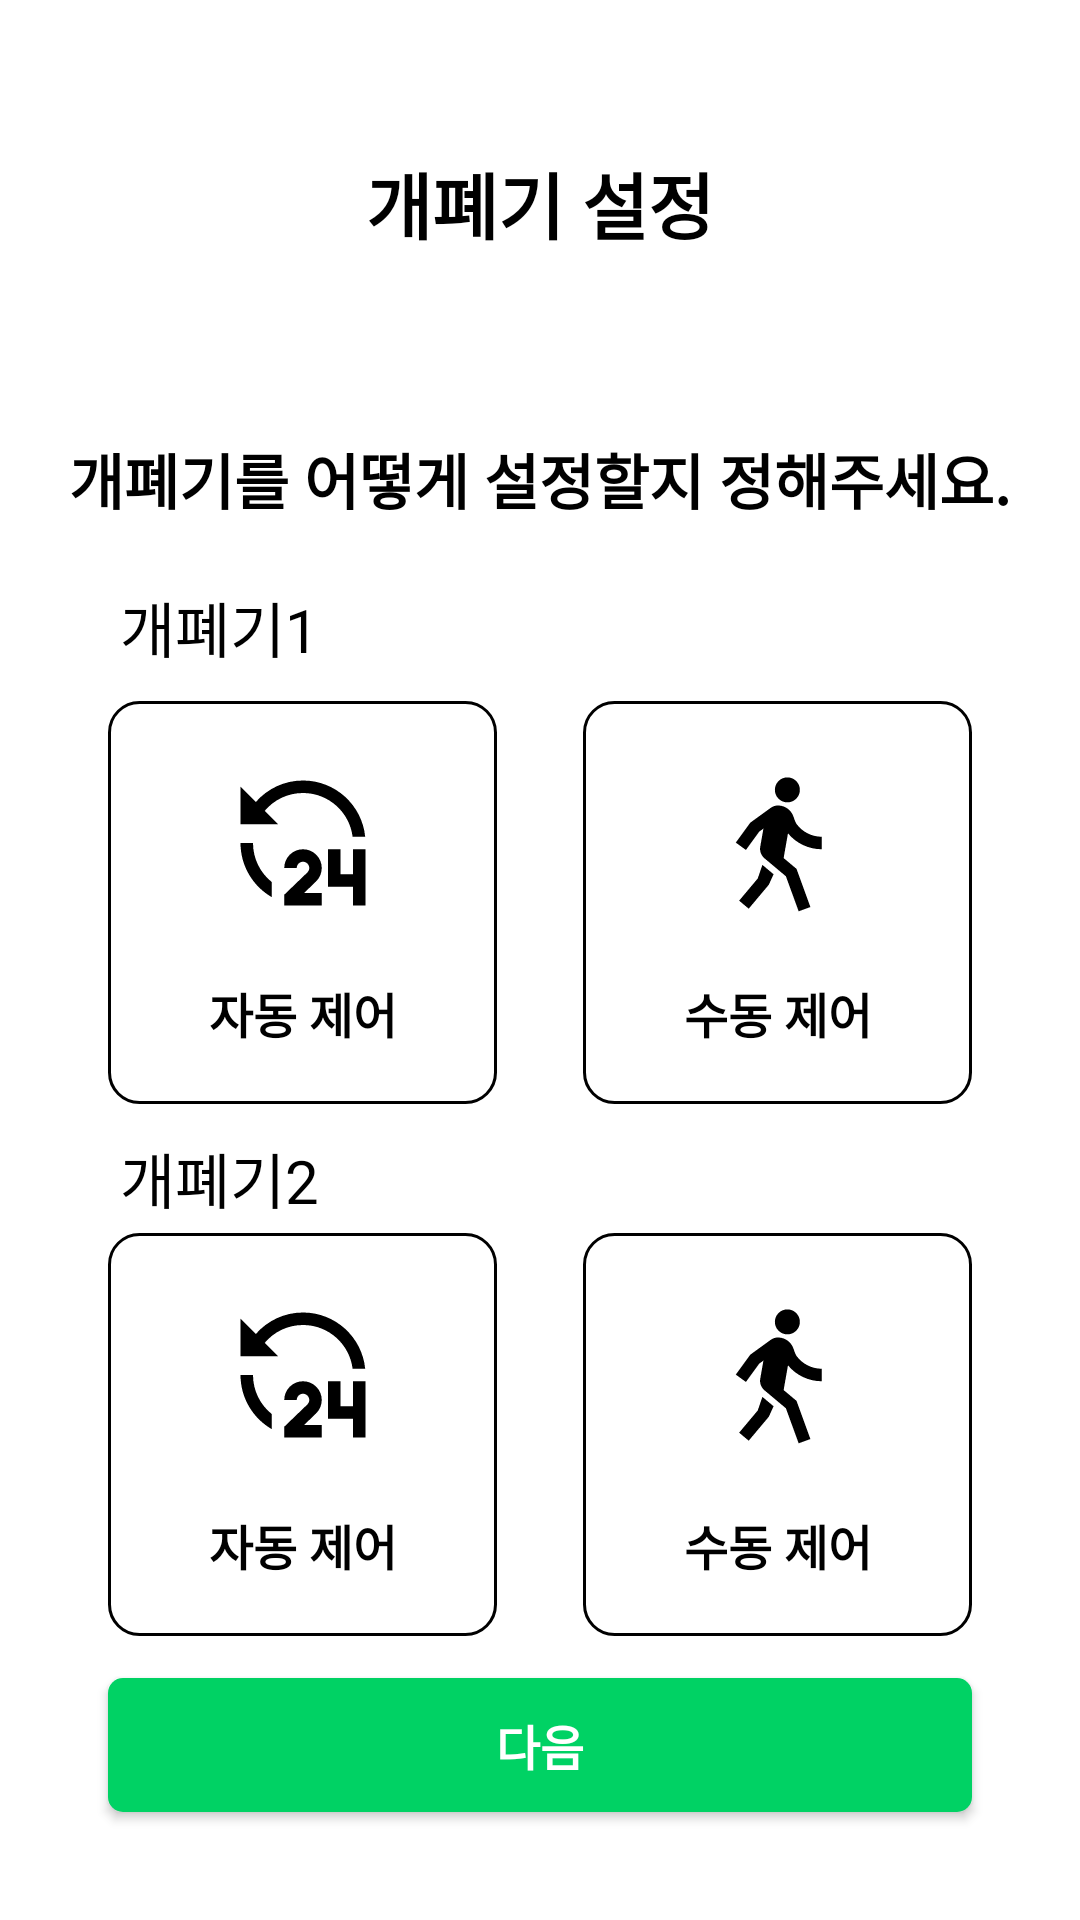

Point at icon controls on the screen. Image size 1080px×1920px, points as (x,y).
auto: (303,843), (303,1375)
manual: (779,844), (779,1376)
